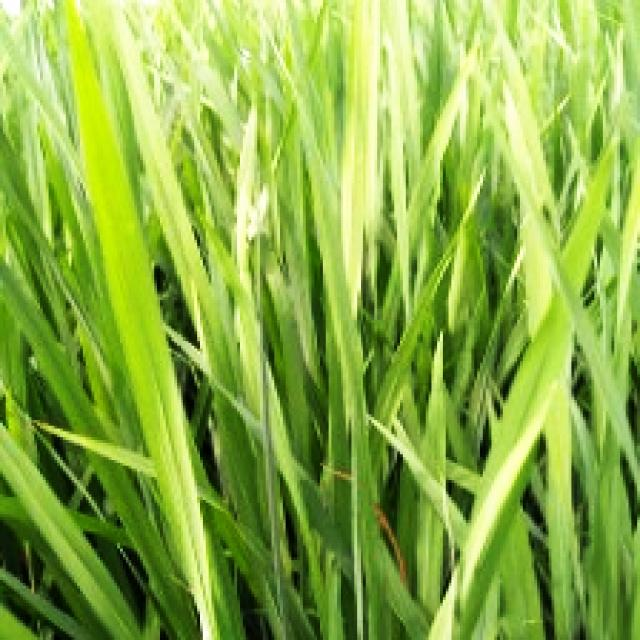health: (0, 40, 634, 640)
